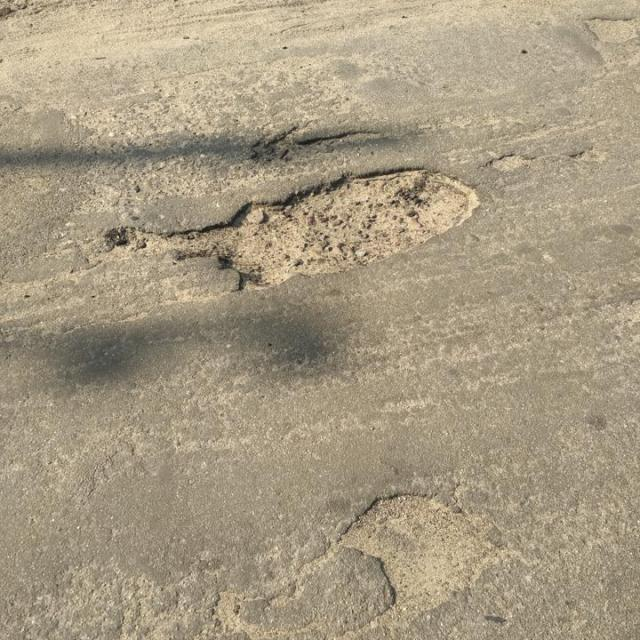pothole: (102, 162, 486, 294), (336, 489, 487, 631), (247, 122, 389, 167), (581, 10, 640, 46), (488, 150, 536, 172)
